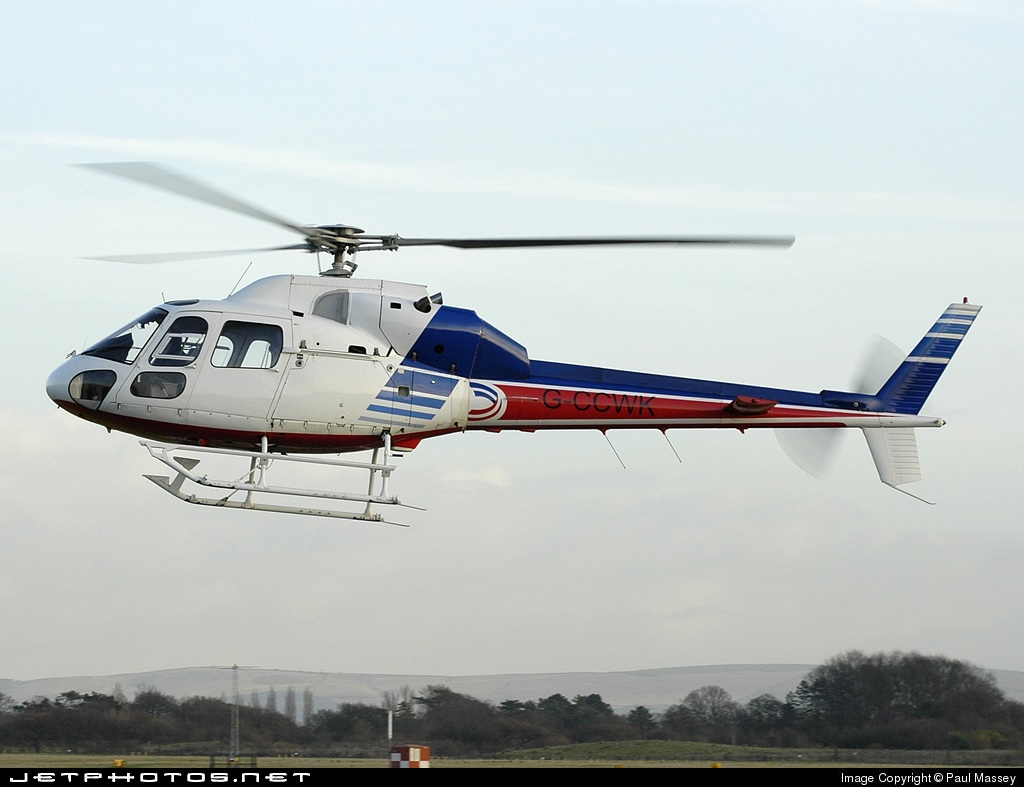number: (535, 384, 664, 418)
